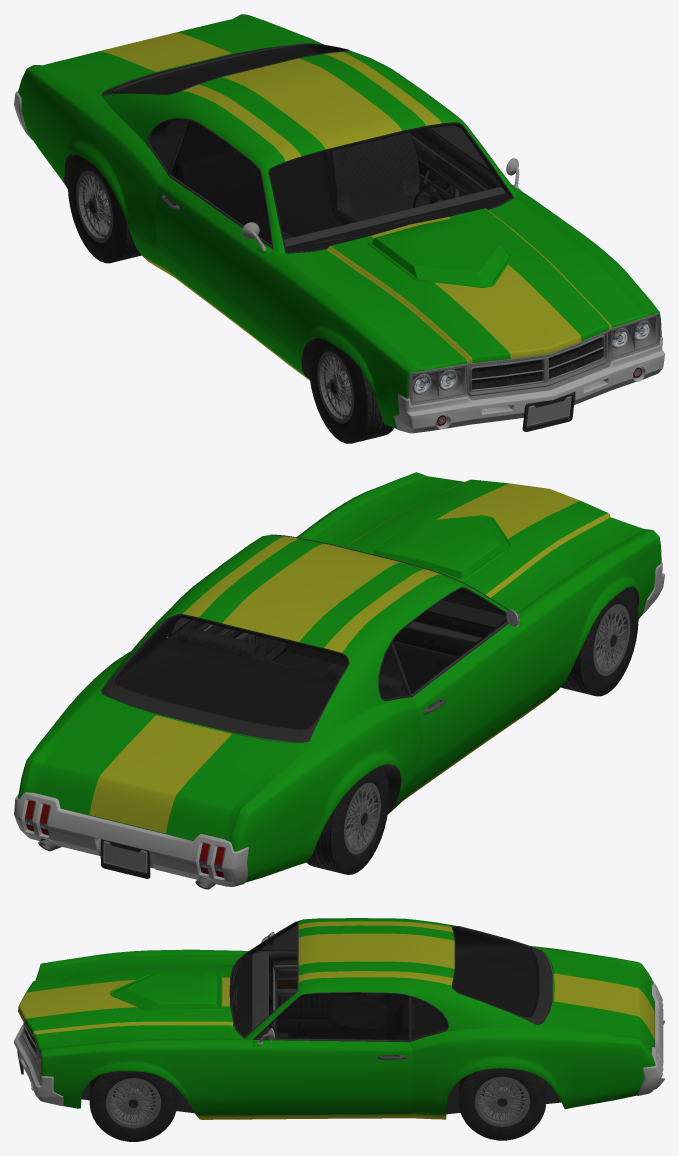
File: Car_6.FBX
3 views of the same model, one above another, from view 1: azimuth 30°, elevation 25°; view 2: azimuth 150°, elevation 25°; view 3: azimuth 270°, elevation 25° (orthographic). The views are drawn at different scales.
Visible parts, largest first — view 1: Body, Door_R, Door_B, Wheel_FR, Wheel_BR, Door_L; view 2: Body, Door_B, Door_R, Wheel_BR, Wheel_FR, Door_L; view 3: Body, Door_L, Door_B, Wheel_BL, Wheel_FL, Door_R.
Part boxes in pixels (<box>): Body: <box>14,14,664,433</box>; Door_R: <box>155,121,277,354</box>; Door_B: <box>45,19,292,89</box>; Wheel_FR: <box>309,338,393,443</box>; Wheel_BR: <box>68,154,141,263</box>; Door_L: <box>411,125,536,201</box>; Body: <box>14,472,664,889</box>; Door_B: <box>36,697,293,839</box>; Door_R: <box>392,589,547,790</box>; Wheel_BR: <box>306,766,389,874</box>; Wheel_FR: <box>561,587,638,696</box>; Door_L: <box>168,547,286,660</box>; Body: <box>14,918,664,1119</box>; Door_L: <box>229,993,412,1115</box>; Door_B: <box>545,953,654,1053</box>; Wheel_BL: <box>458,1068,546,1140</box>; Wheel_FL: <box>89,1071,177,1141</box>; Door_R: <box>255,925,384,1025</box>.
Size of the model in its own units: 52.91 by 34.31 by 140.
